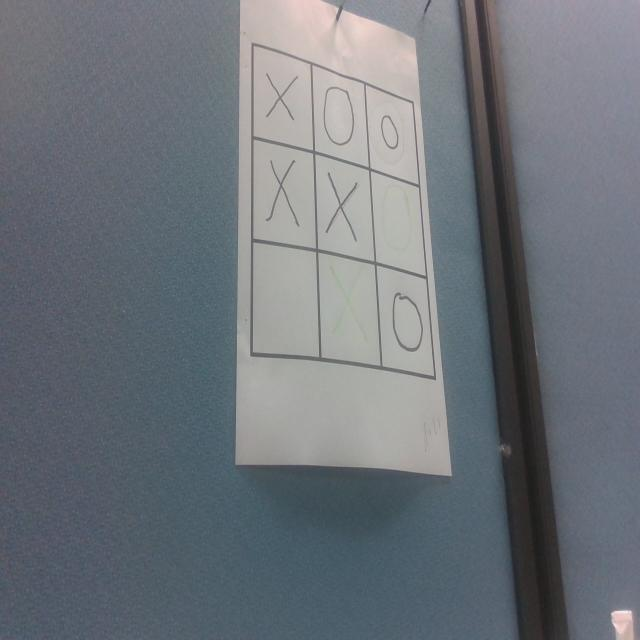null: (252, 242, 319, 360)
o: (321, 81, 358, 151), (391, 289, 424, 359), (381, 184, 414, 253), (379, 113, 400, 151)
table: (250, 6, 435, 379)
x: (328, 264, 367, 340), (268, 159, 300, 226), (326, 176, 358, 242), (265, 74, 296, 123)
